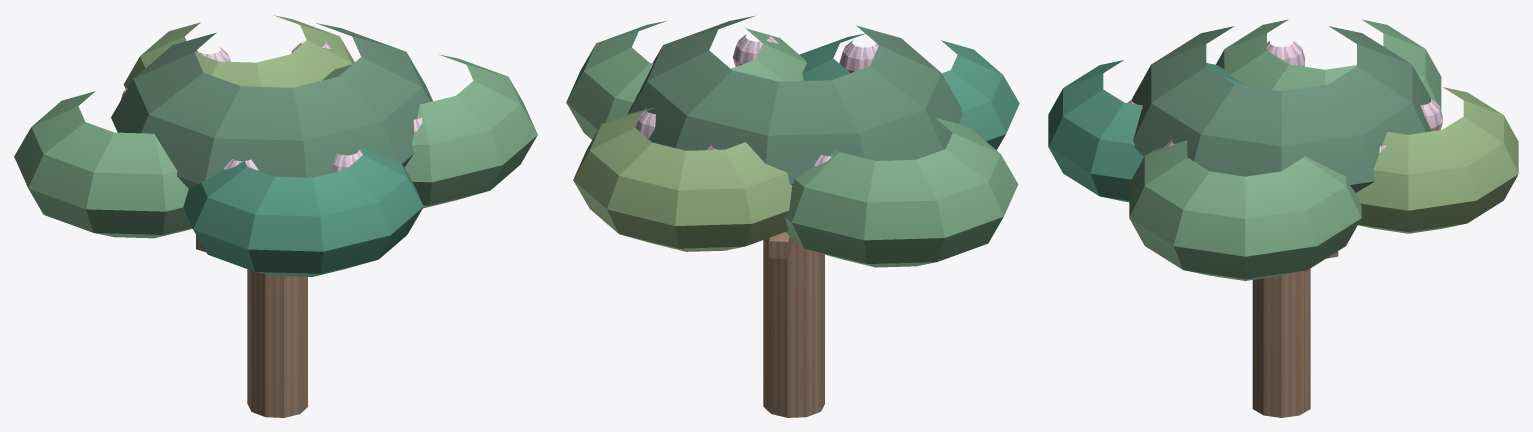
The model's file is rain_tree_bloom.glb.
The picture shows the model from 3 angles, left to right: view 1: azimuth 30°, elevation 25°; view 2: azimuth 150°, elevation 25°; view 3: azimuth 270°, elevation 25°; orthographic projection. The views are drawn at different scales.
Visible parts, largest first — view 1: rain_tree_bloom; view 2: rain_tree_bloom; view 3: rain_tree_bloom.
Part boxes in pixels (box(x1,y1,x2,y2)): rain_tree_bloom: box(14, 15, 537, 417); rain_tree_bloom: box(566, 15, 1019, 417); rain_tree_bloom: box(1048, 19, 1518, 417).
Bounding box in the file's own units: 7.24 × 5.49 × 6.49.
Materials: 1 (1 with a texture image).
